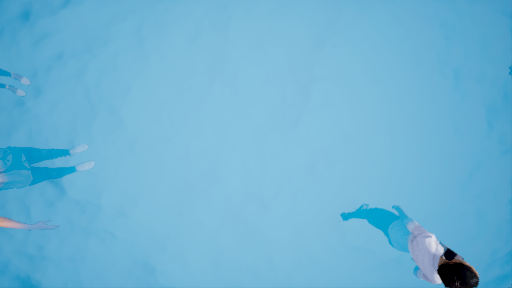person: (339, 200, 481, 288)
